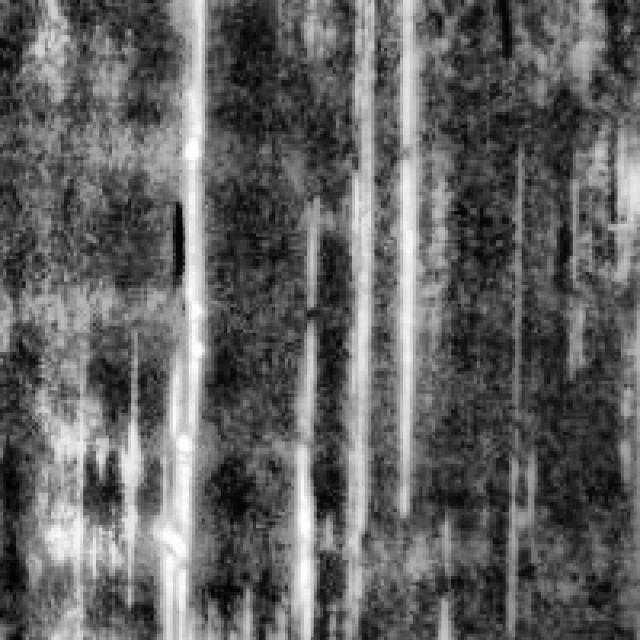Inclusion: (144, 0, 211, 634), (374, 0, 429, 509), (275, 221, 330, 637)
